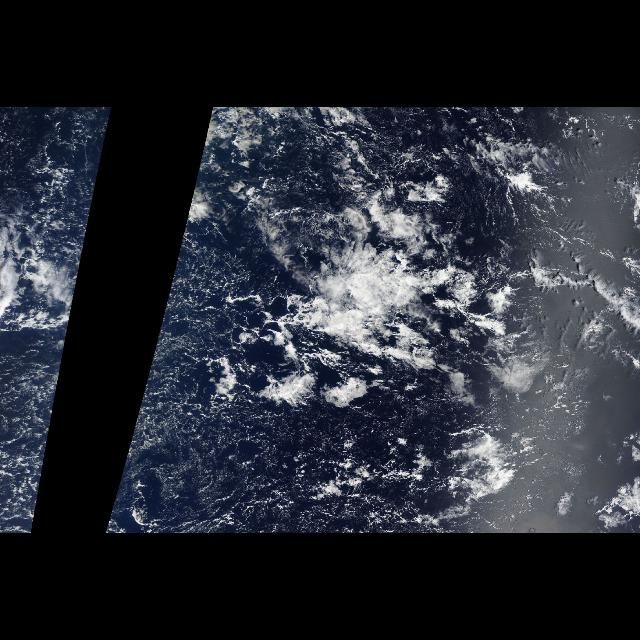Fish: (502, 234, 636, 342)
Gravel: (126, 238, 508, 524), (3, 137, 101, 526)
Sugar: (122, 164, 412, 532), (18, 165, 100, 467)
